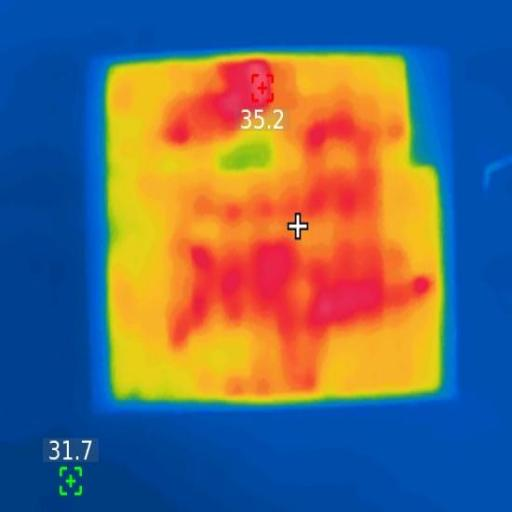hotspot: (174, 238, 440, 349), (303, 105, 395, 217), (161, 66, 292, 141), (414, 279, 429, 292)
